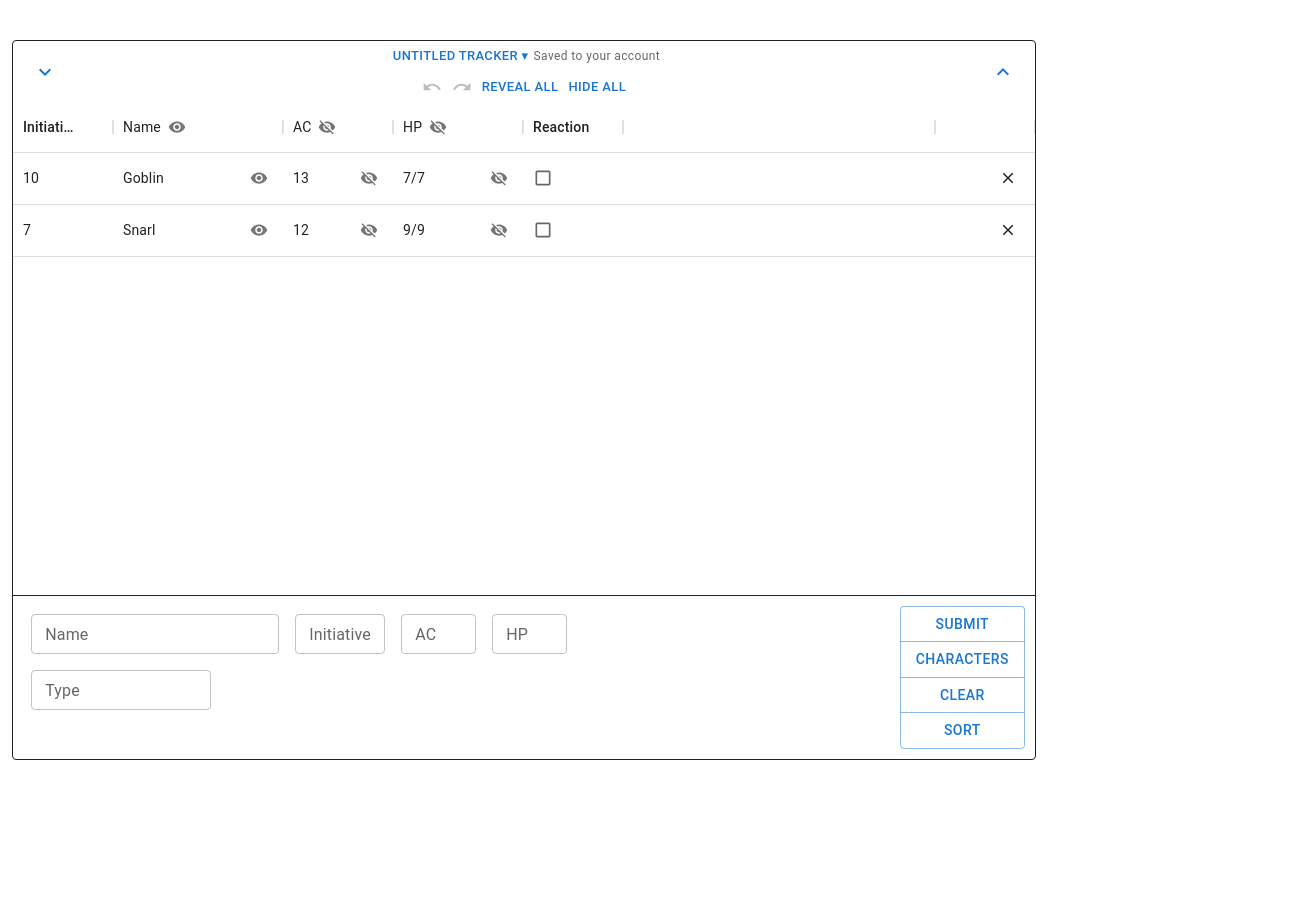
Test: taking changes back › undoes and redoes with the toolbar buttons and the keyboard
Check: the text "Goblin" is shown, box x1=123 y1=168 x2=164 y2=188
Check: the button named "Undo" is disabled, box x1=417 y1=72 x2=447 y2=102
Right-click the text "Snarl".
right_click(524, 230)  # box x1=13 y1=204 x2=1035 y2=256
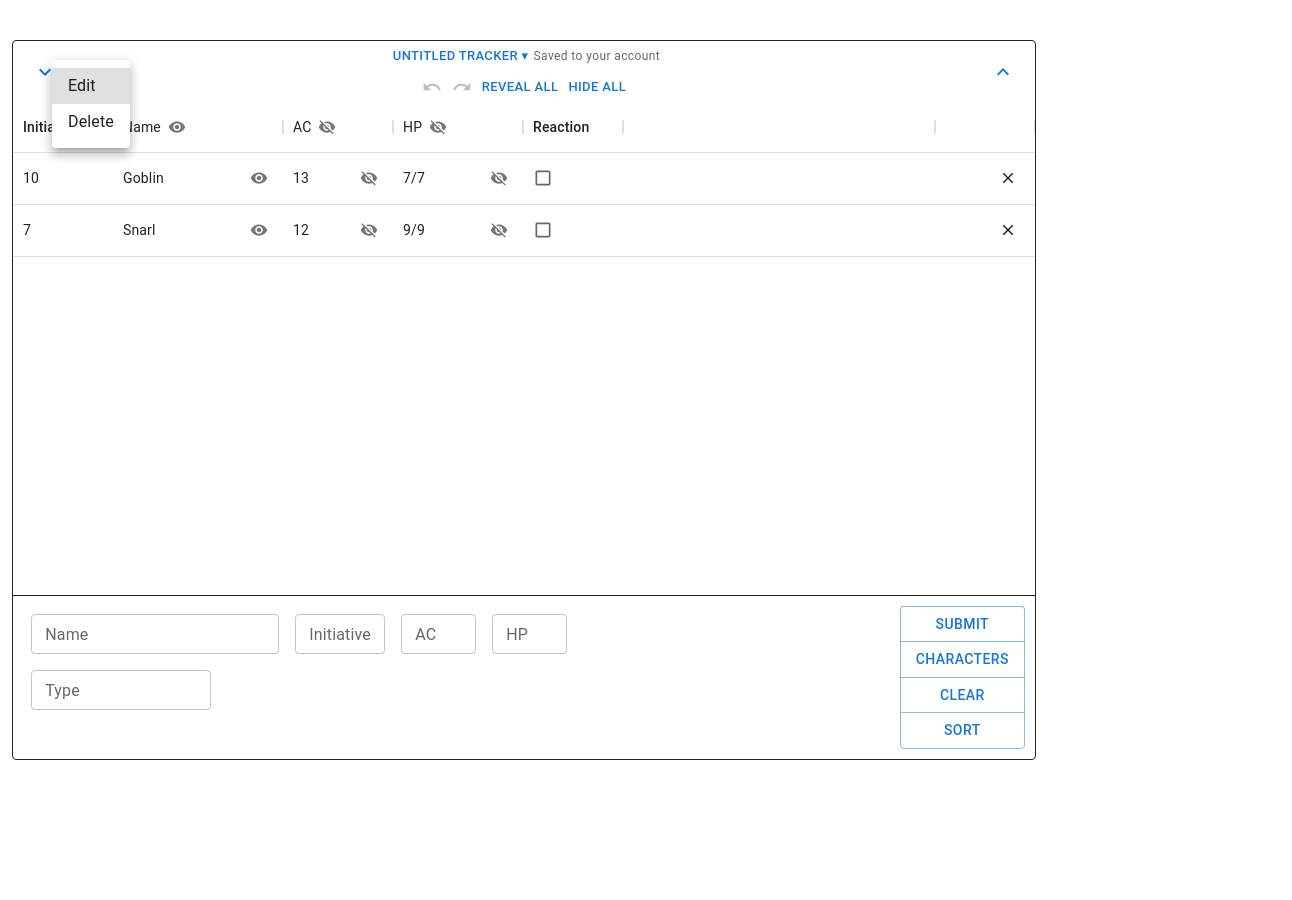
Click the menu item "Delete".
click(91, 122)  # box x1=68 y1=112 x2=114 y2=131
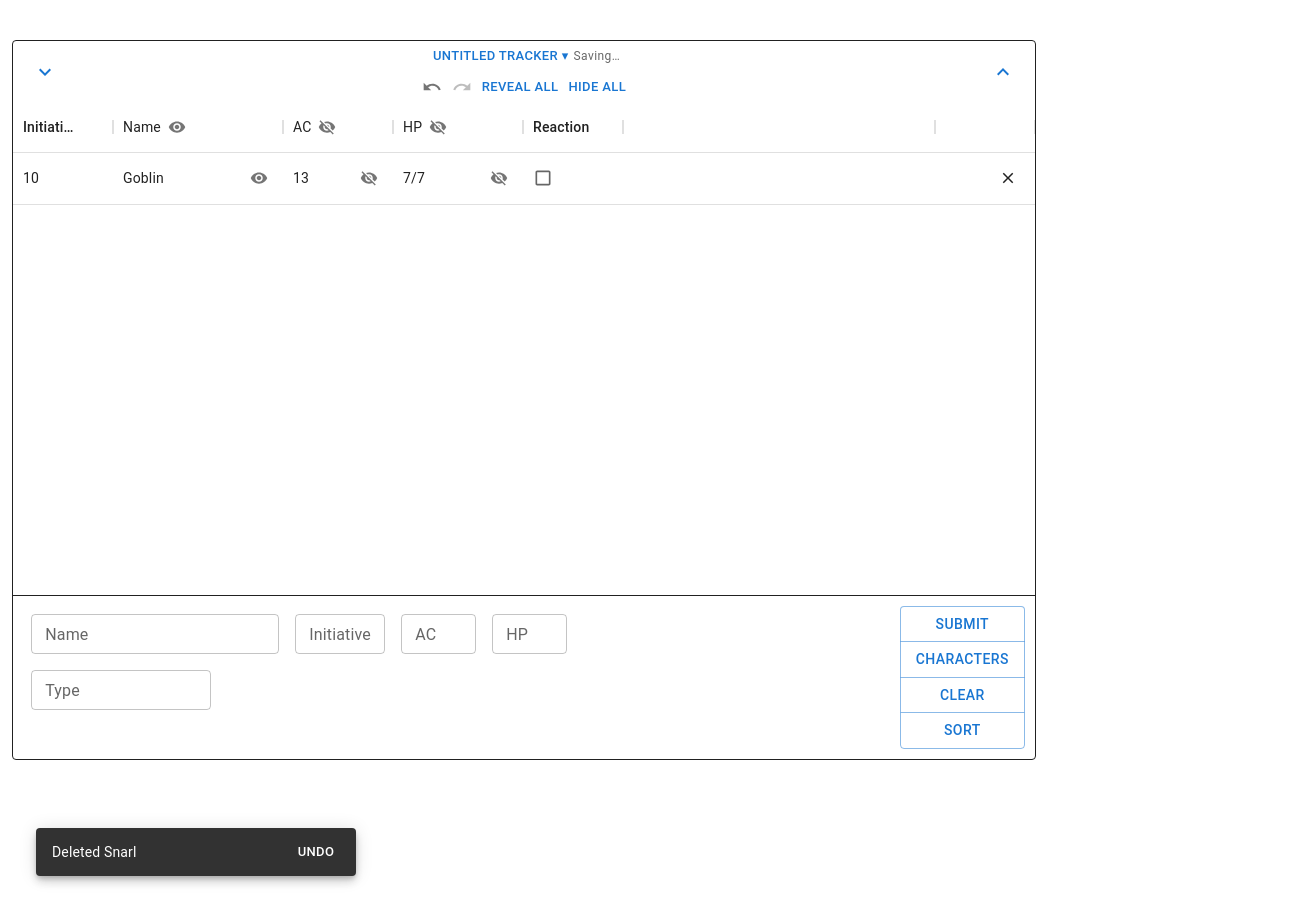
Press z
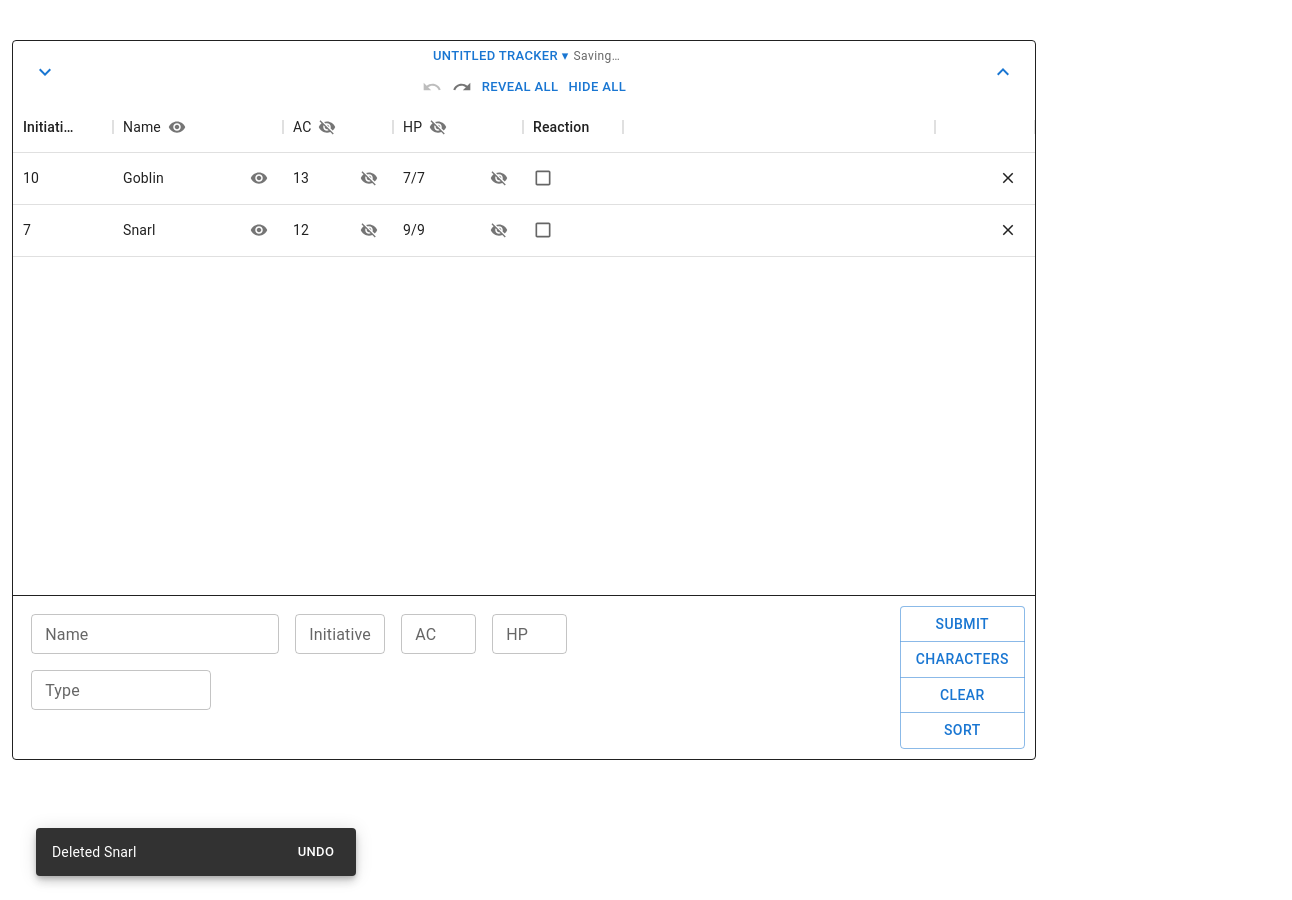
Check: the text "Snarl" is shown, box x1=123 y1=220 x2=156 y2=240
Check: the button named "Redo" is enabled
Click the button named "Redo".
click(462, 87)  # box x1=447 y1=72 x2=477 y2=102
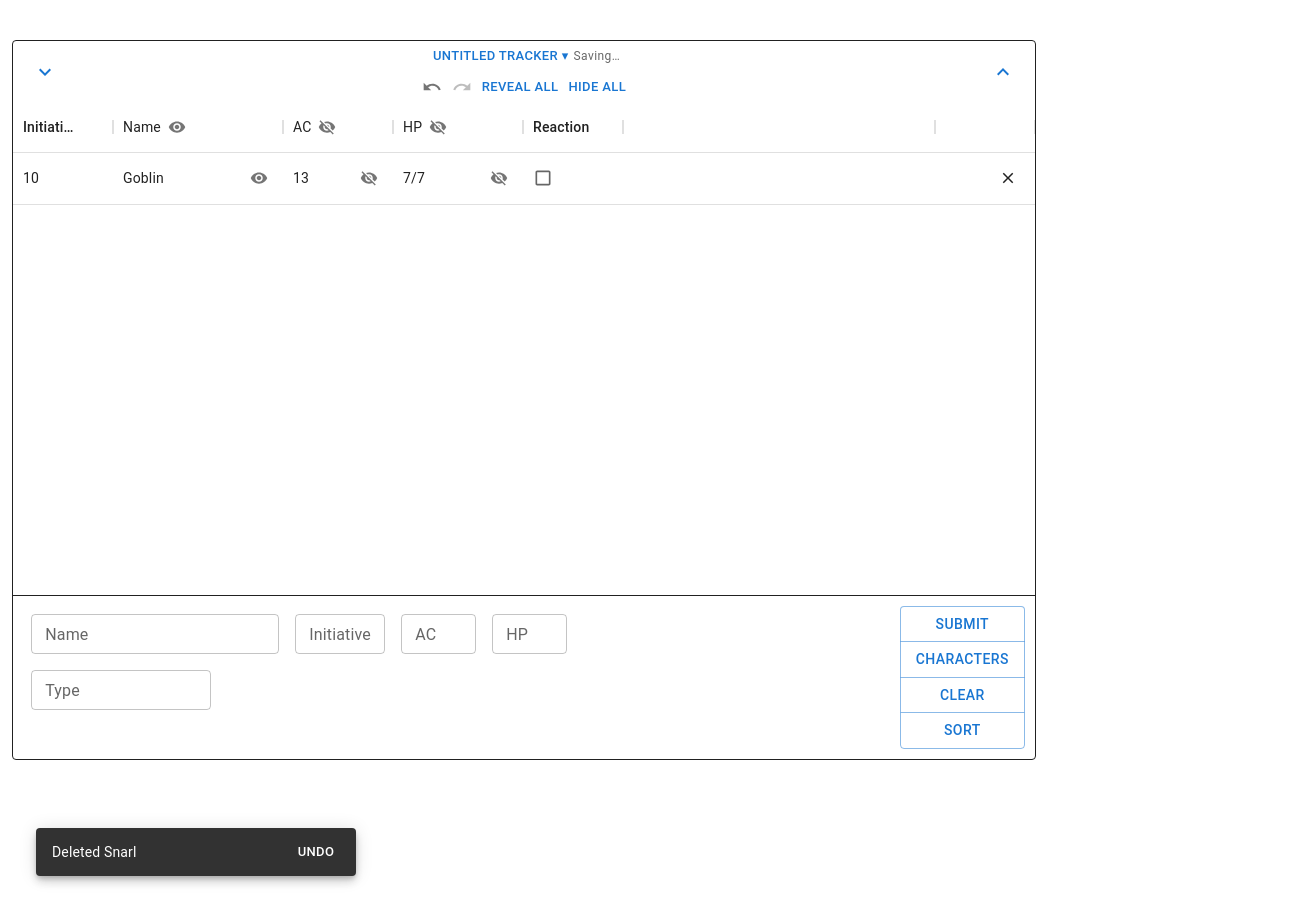
Click the button named "Undo".
click(432, 87)  # box x1=417 y1=72 x2=447 y2=102
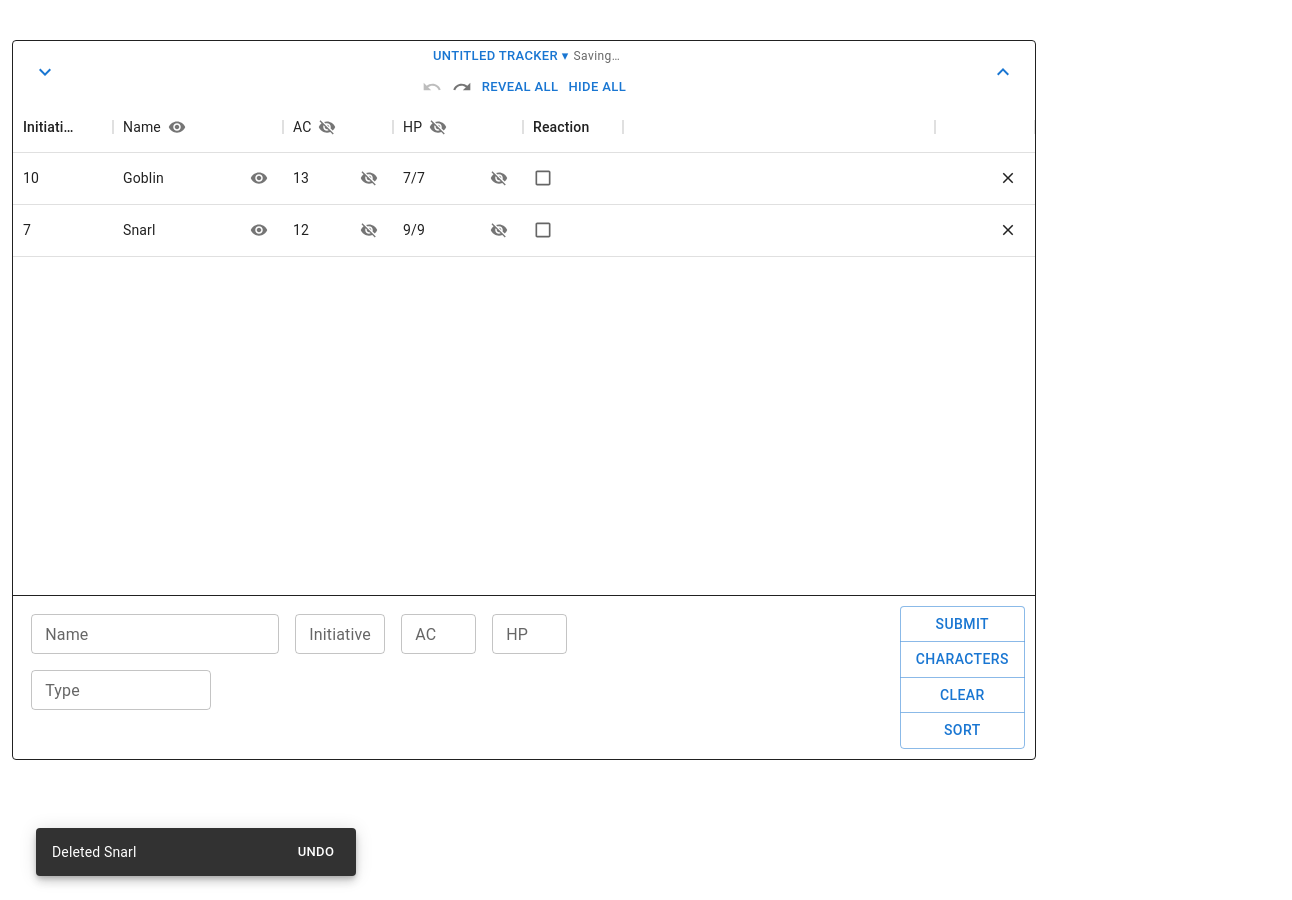
Check: the text "Snarl" is shown, box x1=123 y1=220 x2=156 y2=240
